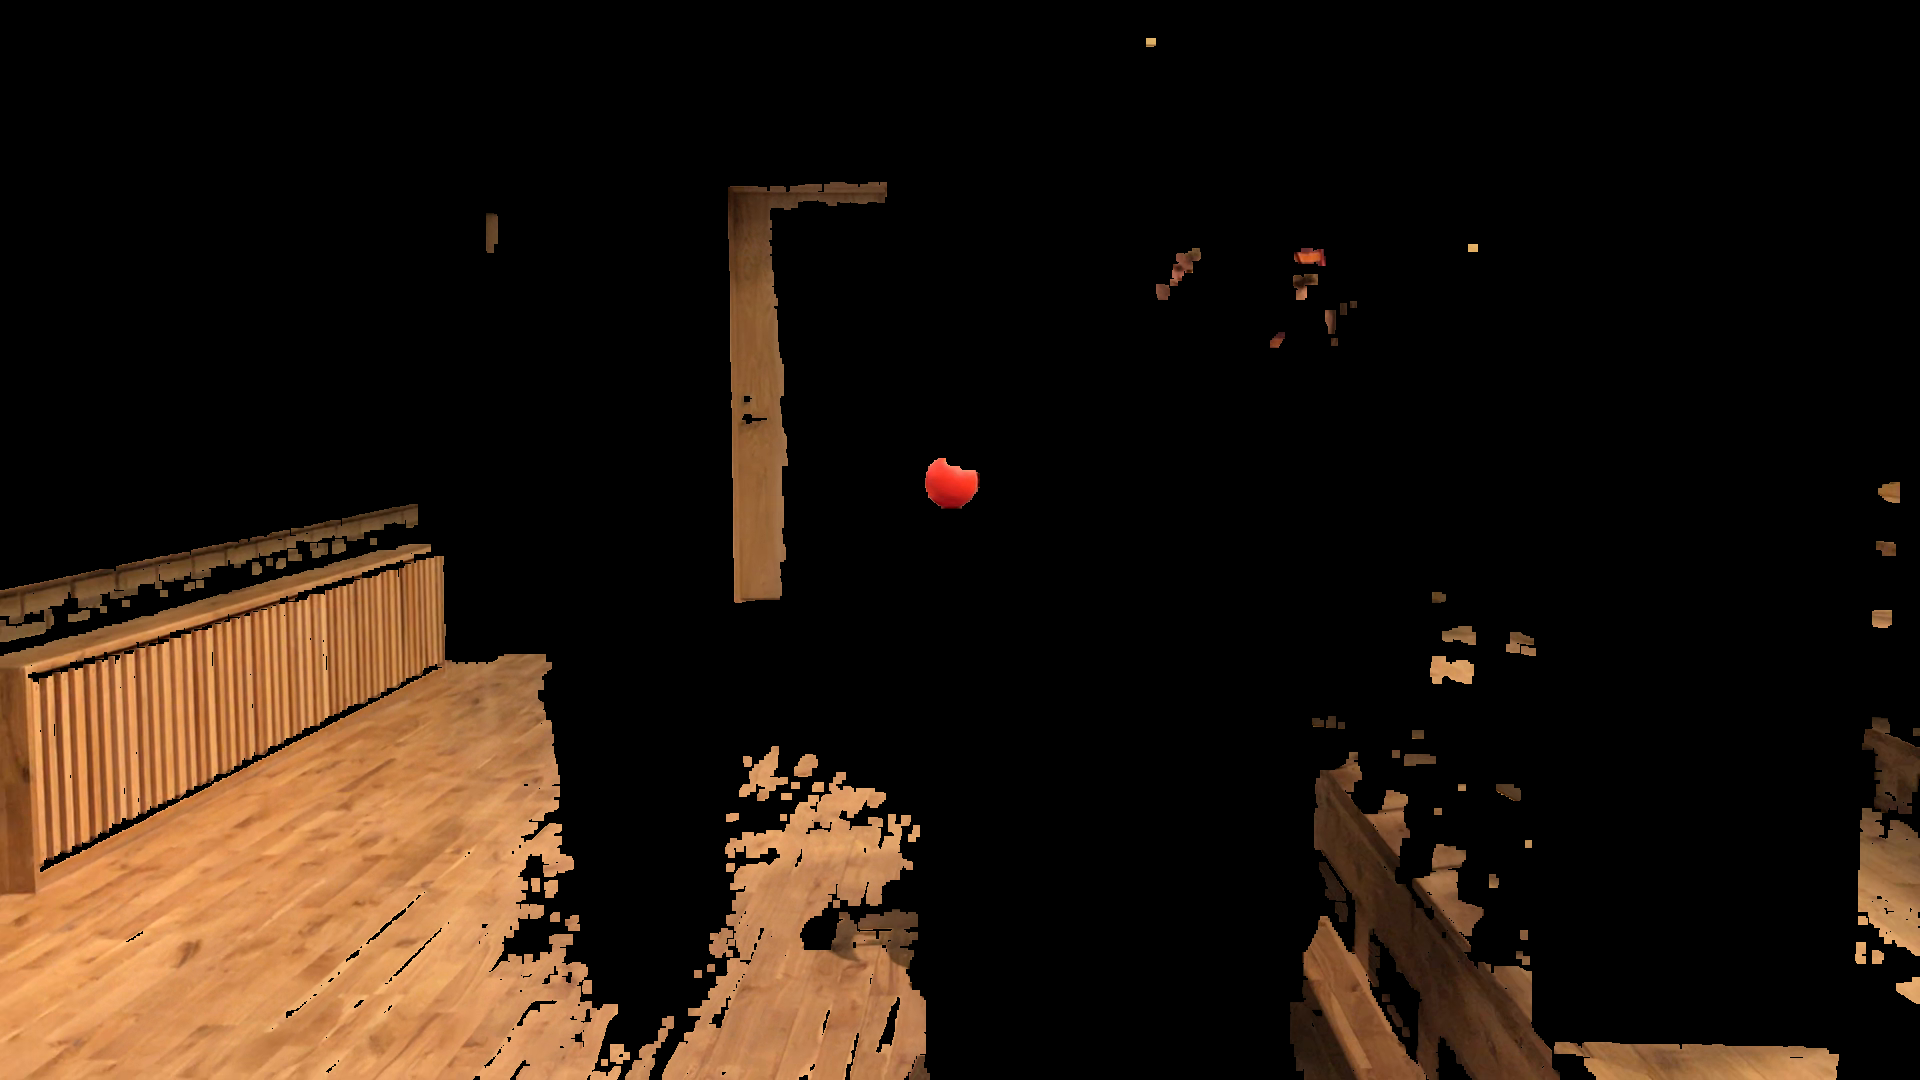Ball: (927, 454, 984, 502)
